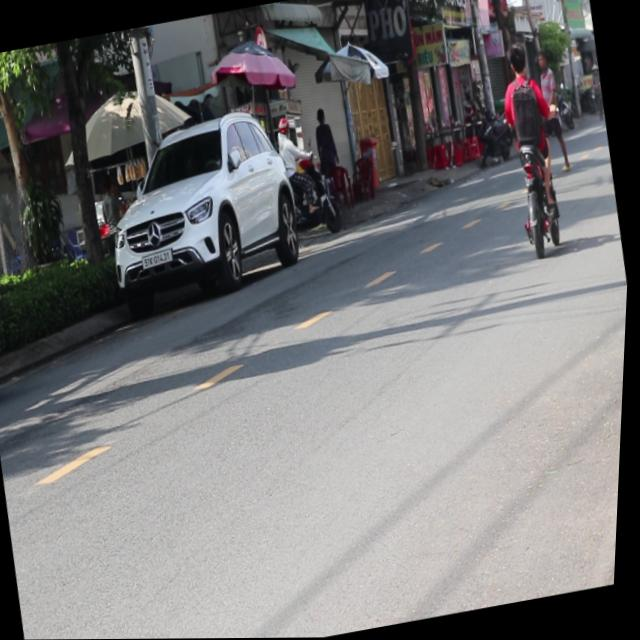licenseplate: (486, 33, 580, 261)
motorcyclist: (503, 39, 530, 79)
